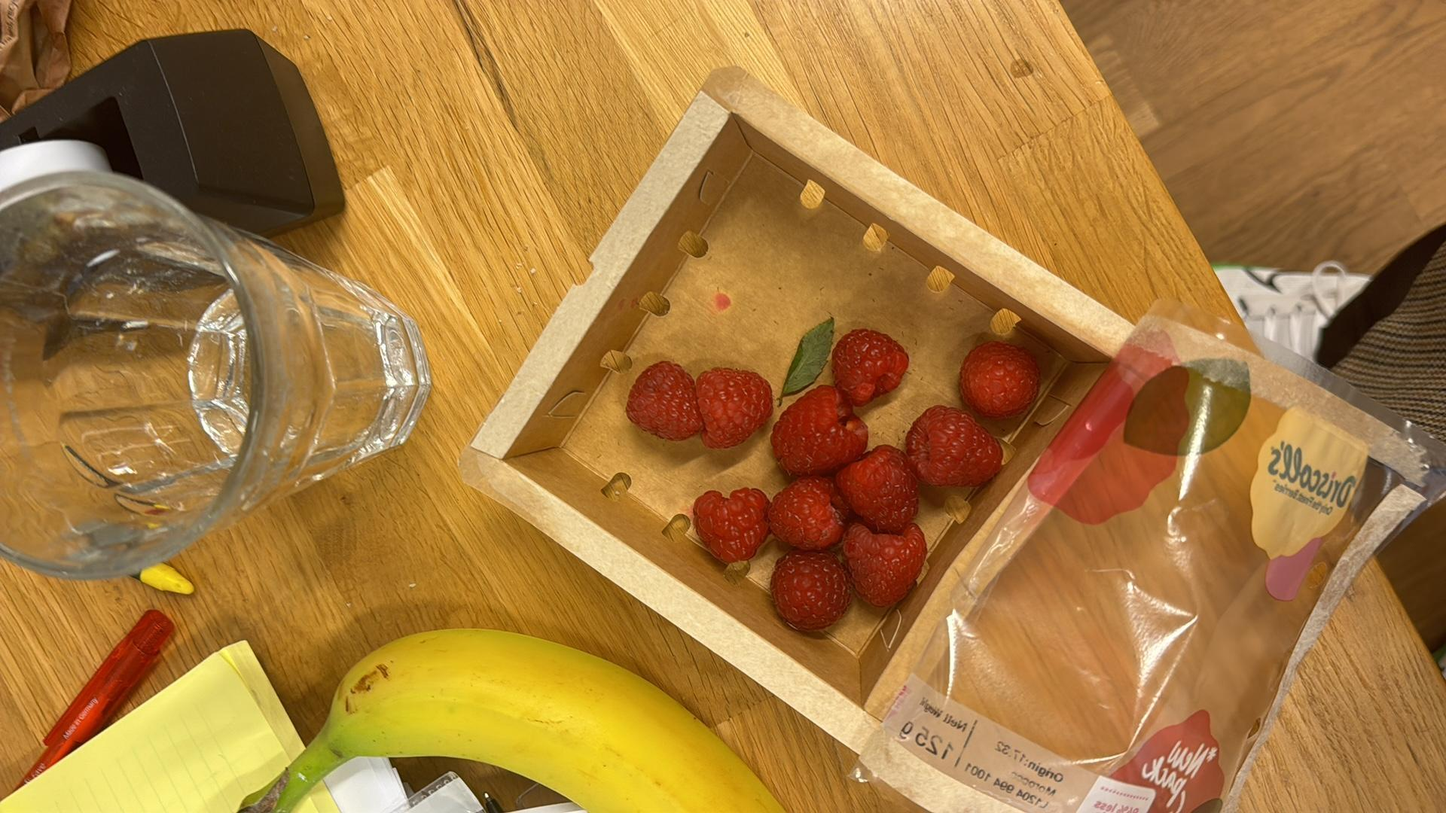banana: (222, 626, 824, 811)
raspberry: (770, 382, 868, 472), (832, 442, 922, 537), (906, 401, 1001, 481), (845, 519, 925, 611), (963, 335, 1040, 423), (624, 359, 702, 443), (766, 477, 847, 554), (694, 367, 772, 445), (775, 552, 845, 638), (688, 489, 770, 562), (838, 328, 904, 398)
